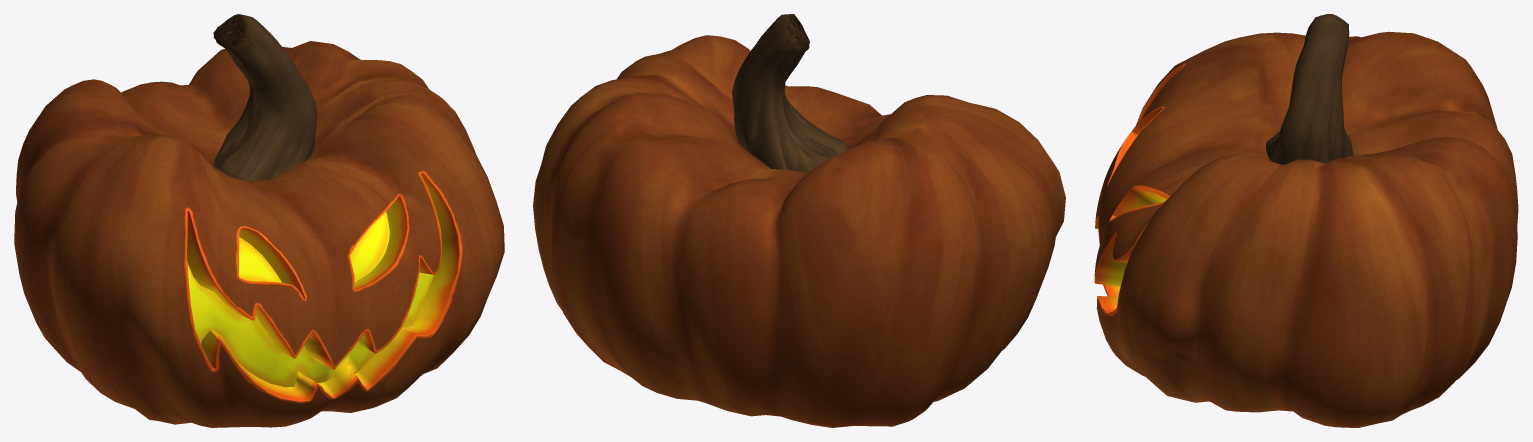
Rendered from pumpa.glb.
3 views of the same model, side by side, from view 1: azimuth 30°, elevation 25°; view 2: azimuth 150°, elevation 25°; view 3: azimuth 270°, elevation 25° (orthographic). The views are drawn at different scales.
Visible parts, largest first — view 1: node_id30; view 2: node_id30; view 3: node_id30.
Part boxes in pixels (<box>): node_id30: <box>14,14,504,427</box>; node_id30: <box>533,14,1065,427</box>; node_id30: <box>1094,14,1518,427</box>.
Size of the model in its own units: 0.512 by 0.4001 by 0.441.
Materials: 1 (1 with a texture image).
